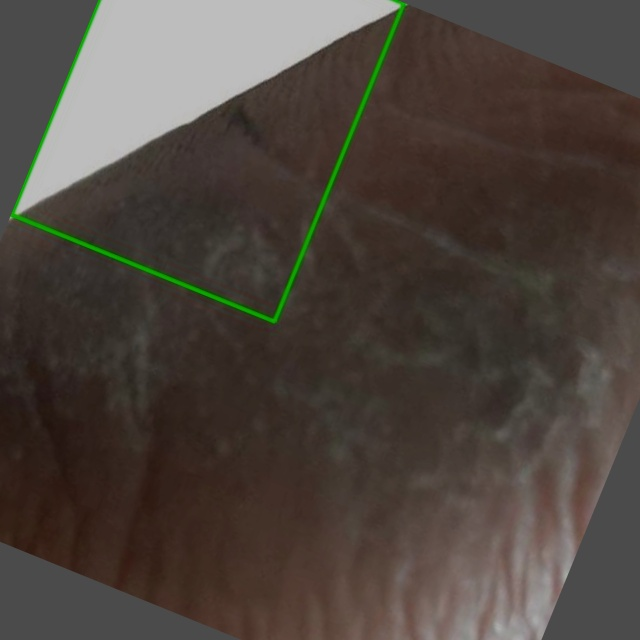Eczema: (11, 0, 403, 321)
